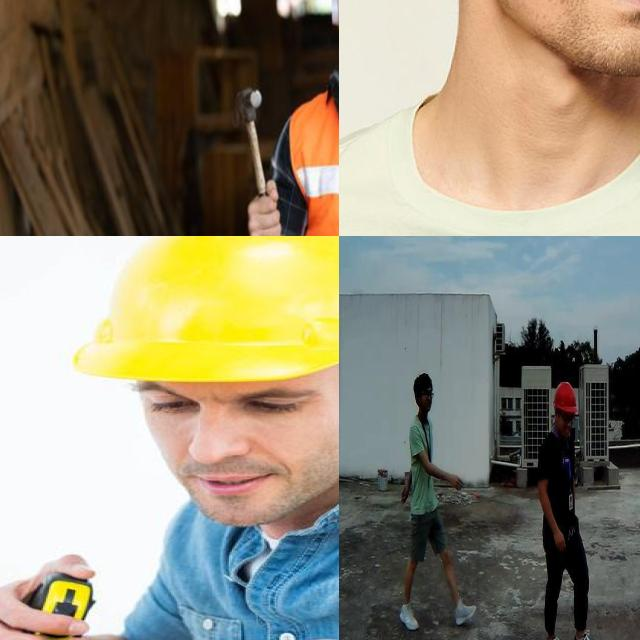No_Ear-Protection: (548, 381, 580, 446), (409, 362, 439, 426)
No_Glasses: (137, 378, 331, 421)
face_nomask: (145, 413, 339, 525), (497, 0, 640, 78)
hand_noglove: (0, 555, 90, 640)
head_helmet: (74, 236, 339, 382)
person: (225, 0, 339, 236)
